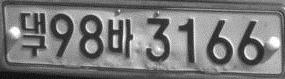1: (176, 18, 201, 62)
3: (145, 17, 171, 62)
6: (205, 19, 234, 65), (236, 20, 264, 65)
8: (78, 14, 104, 59)
9: (48, 12, 75, 57)
대구_V: (19, 11, 47, 57)
바: (107, 19, 134, 58)
